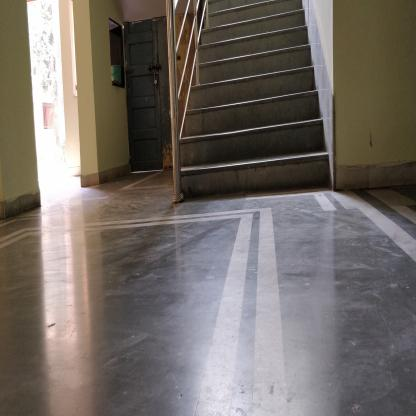stairs: (211, 6, 304, 204)
